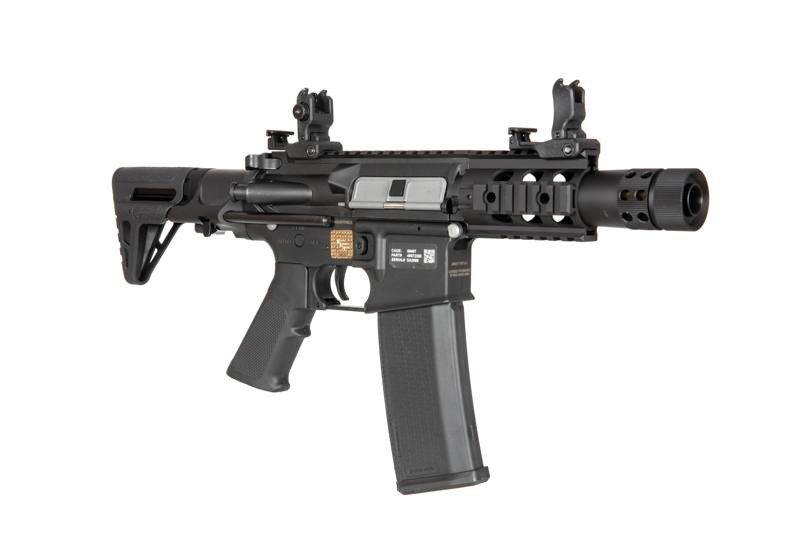m4_carbine: (241, 146, 481, 513)
